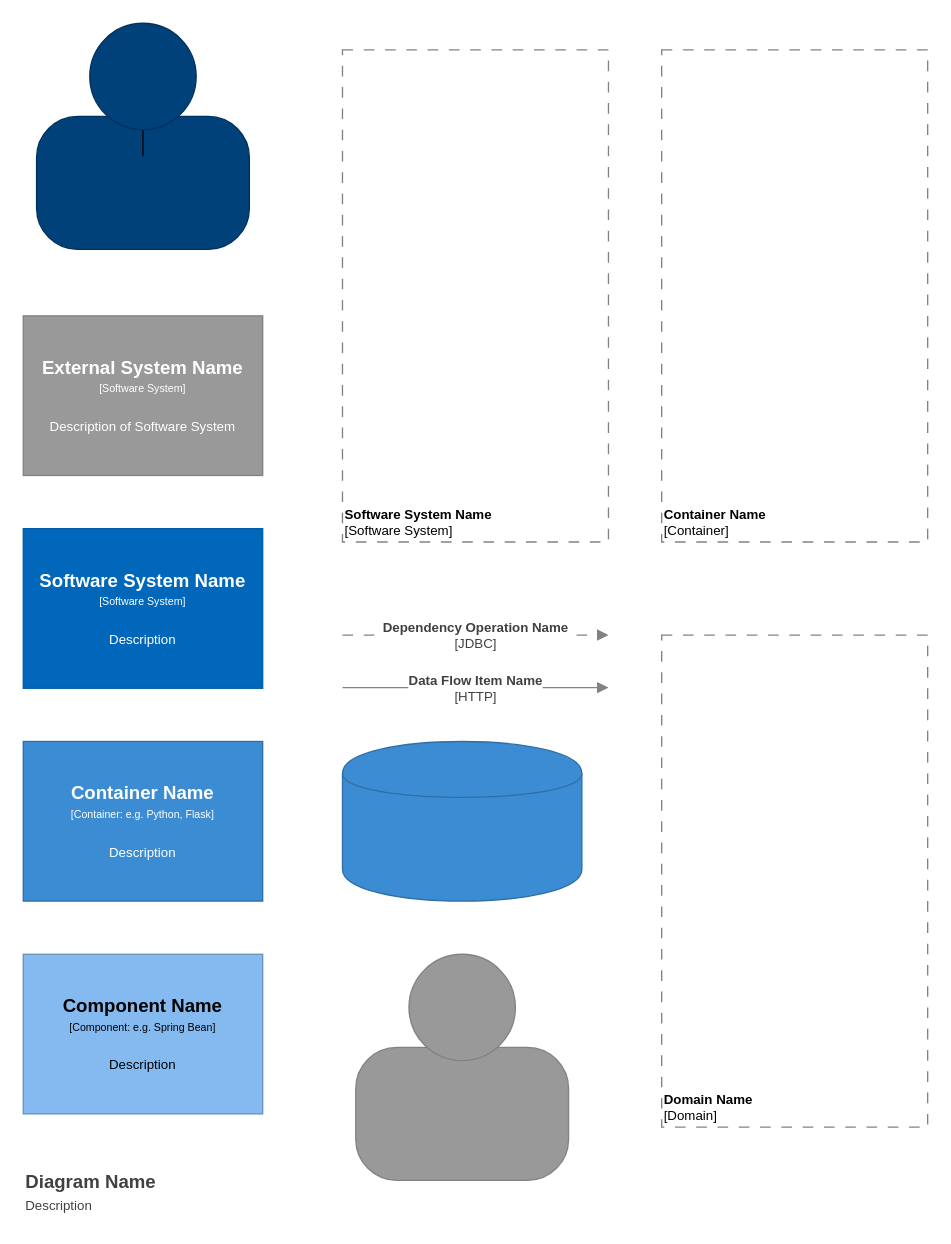
Some shapes in this 951 by 1244 pixel diagram are drawn without their labels. The shapes that lost their labels are listed below. From the top down, each one's centre as x and y in pixels, then its label:
the point at 142,182: Actor Name [Person] Description
the point at 461,820: Container Name [Container: e.g. PostgreSQL] Description
the point at 461,1113: External Actor Name [Person] Description
